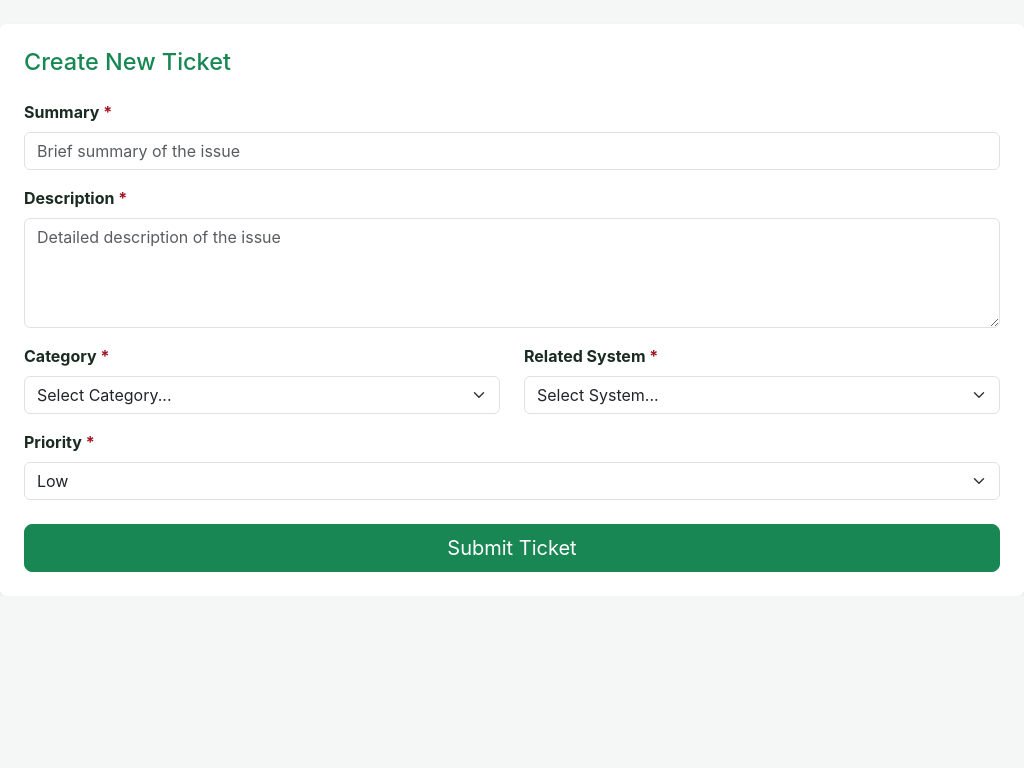
Test: CreateTicketForm (Issue 10 UI tests) › UI-04: Displays error alert and preserves form values when API fails
The width and height of the screenshot is (1024, 768).
// Fill form
Type "  Test Summary  " into the field labelled "Summary *".
click(512, 151); type("  Test Summary  ")  # box [24, 132, 1000, 170]
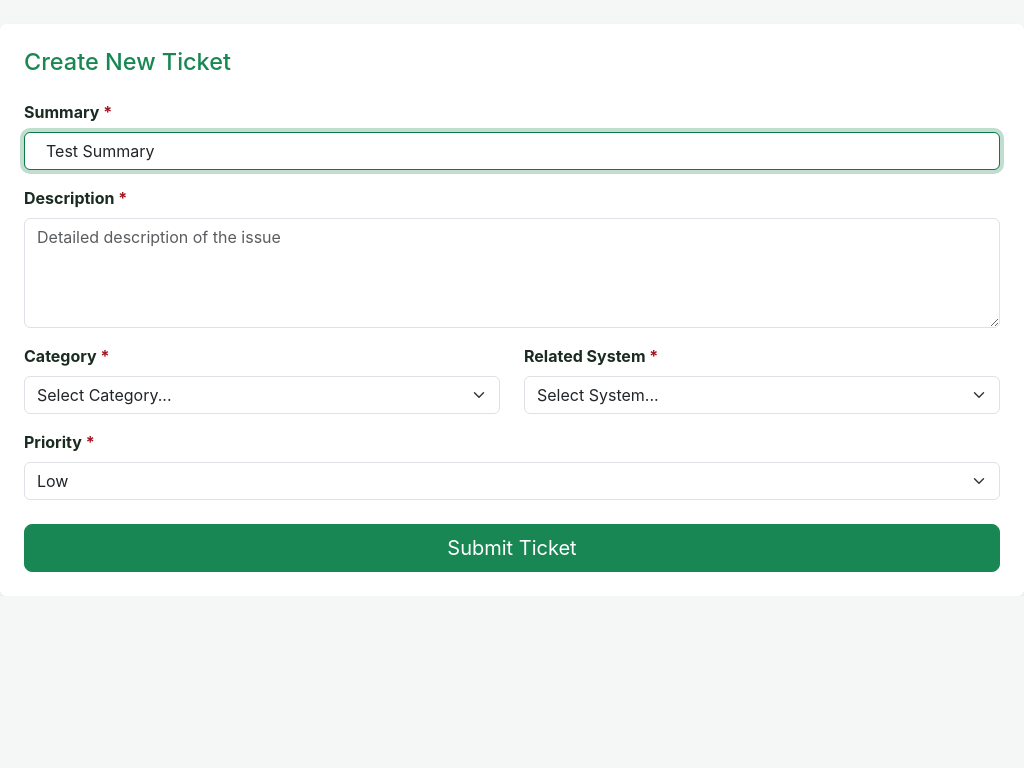
Type "  Test Description  " into the text box labelled "Description *".
click(512, 273); type("  Test Description  ")  # box [24, 218, 1000, 328]
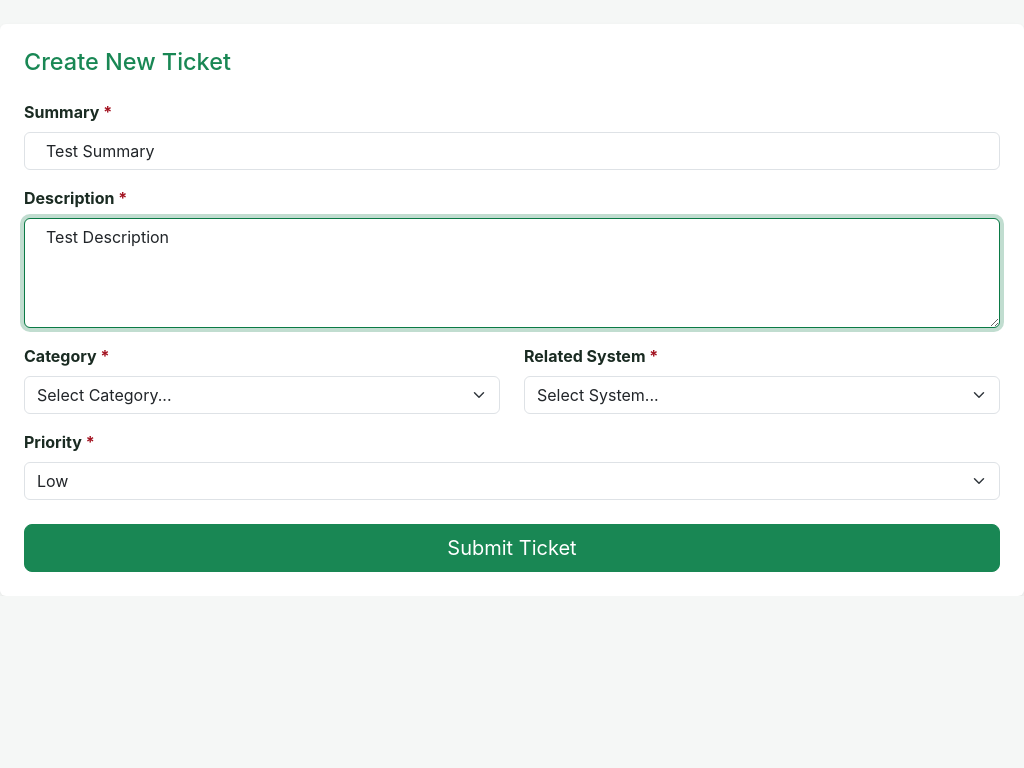
Select "Network" in the dropdown labelled "Category *" at x=262, y=395, box [24, 376, 500, 414]
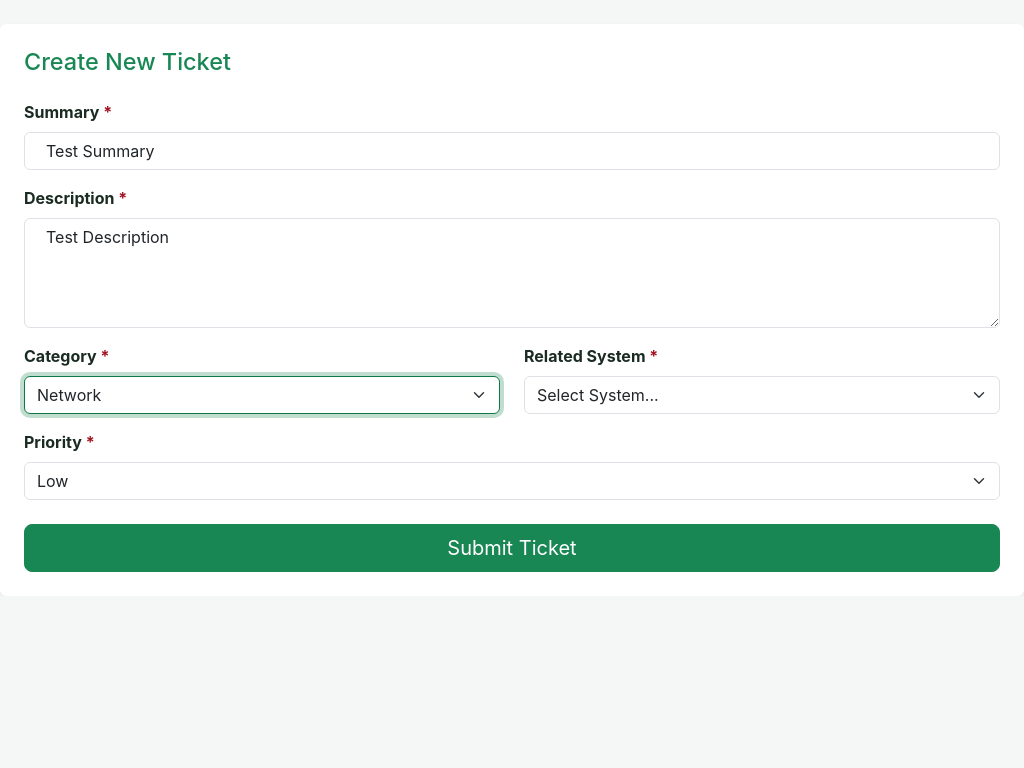
Select "Corporate Laptop" in the dropdown labelled "Related System *" at x=762, y=395, box [524, 376, 1000, 414]
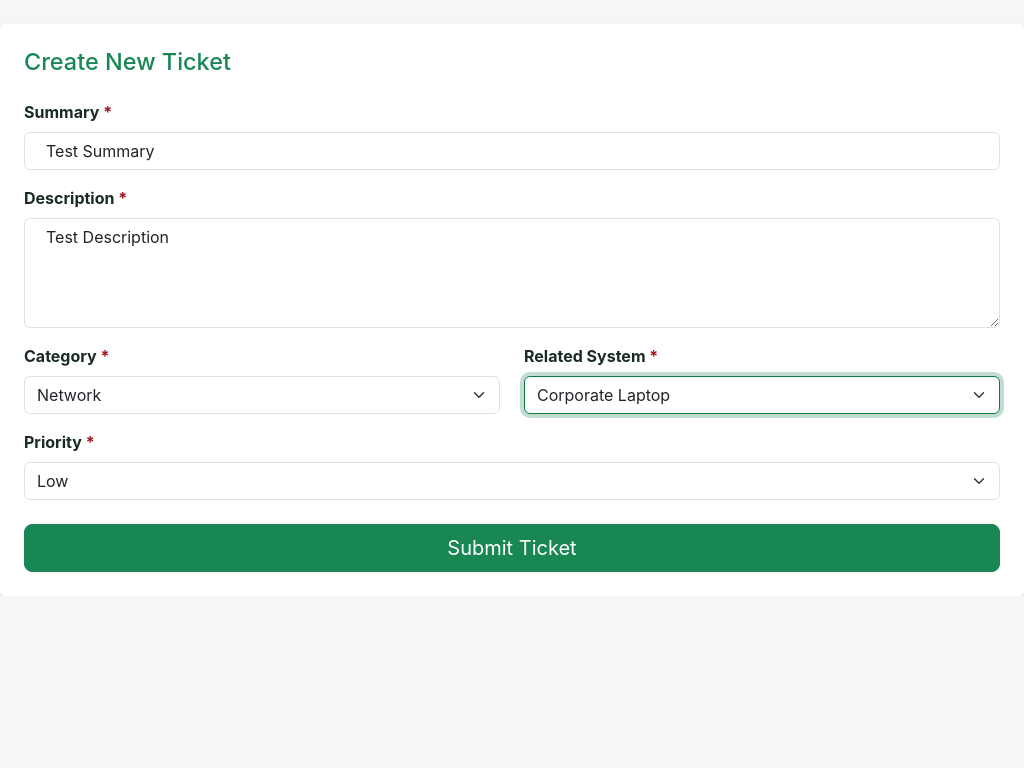
Click the button "Submit Ticket".
click(512, 548)  # box [24, 524, 1000, 572]
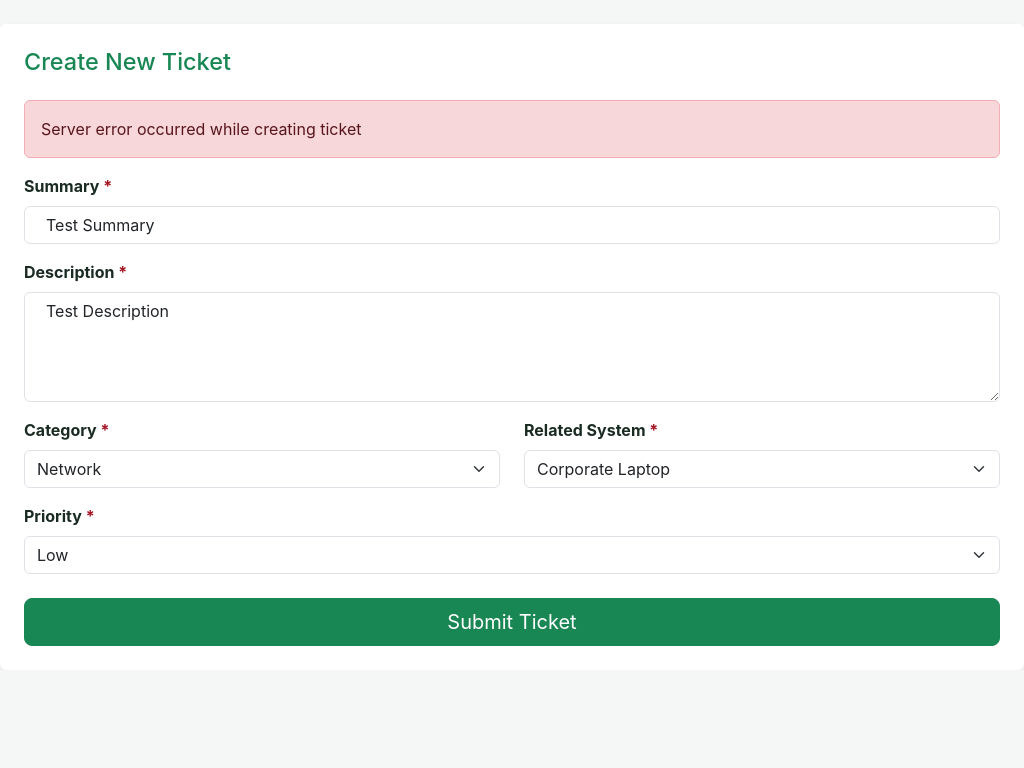
Expected: the text "Server error occurred while creating ticket" is shown, [24, 100, 1000, 158]
